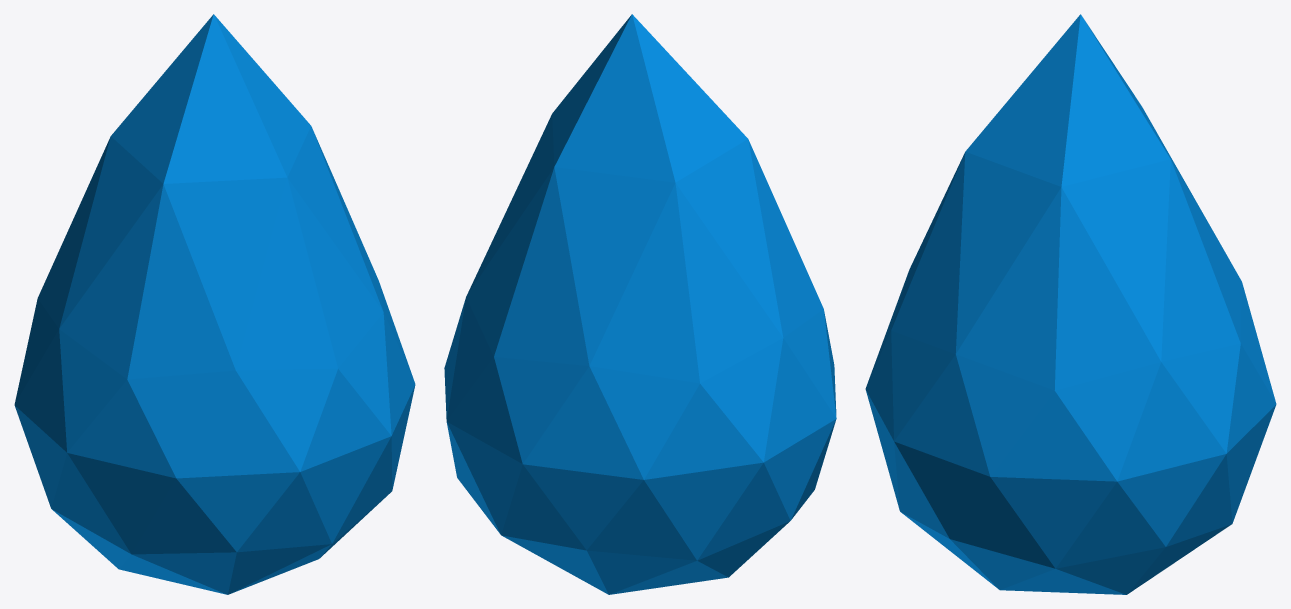
The model's file is drop-alternative.glb.
3 views of the same model, side by side, from view 1: azimuth 30°, elevation 25°; view 2: azimuth 150°, elevation 25°; view 3: azimuth 270°, elevation 25° (orthographic). The views are drawn at different scales.
Visible parts, largest first — view 1: drop_water; view 2: drop_water; view 3: drop_water.
Boxes of the visible parts, x1,y1,x2,y2 form: drop_water: (14,14,415,594); drop_water: (444,14,836,594); drop_water: (865,14,1276,594).
Bounding box in the file's own units: 0.9521 × 1.49 × 0.9732.
